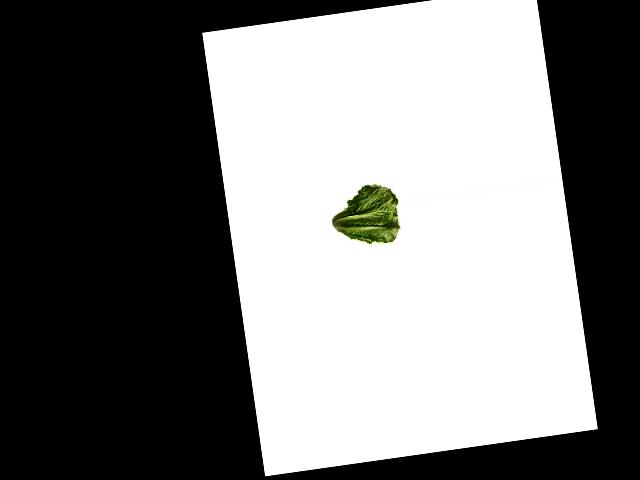lettuce: (323, 178, 404, 248)
